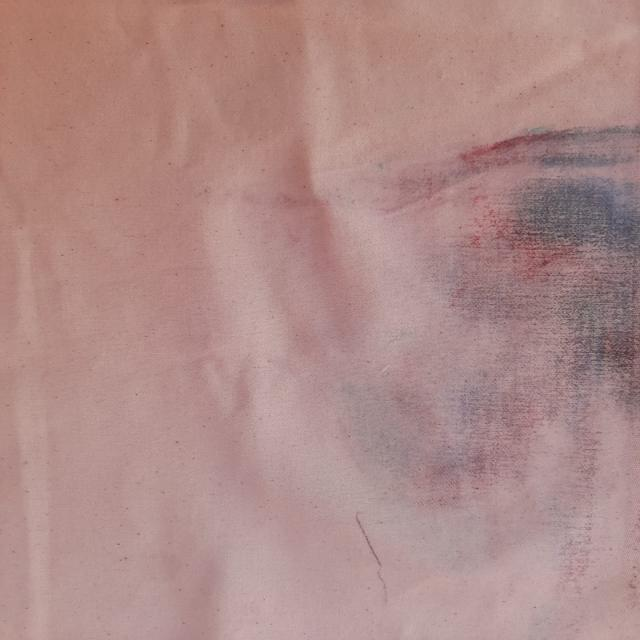taaaches: (324, 76, 638, 532)
